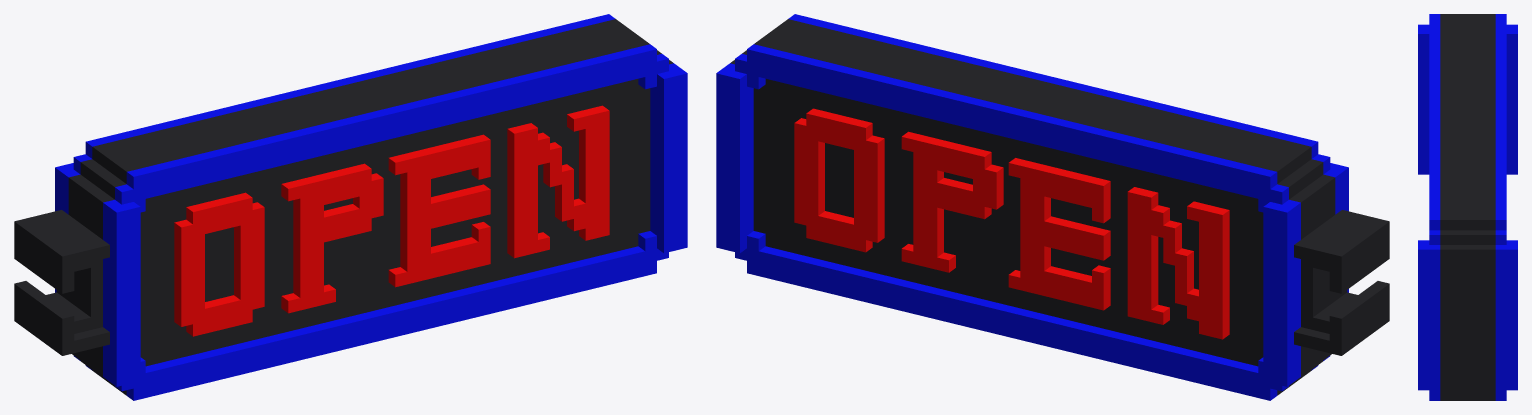
File: Signborad_007.obj
3 views of the same model, side by side, from view 1: azimuth 30°, elevation 25°; view 2: azimuth 150°, elevation 25°; view 3: azimuth 270°, elevation 25° (orthographic). The views are drawn at different scales.
Bounding box in the file's own units: 5.2 × 1.8 × 0.9.
Materials: 1 (1 with a texture image).
